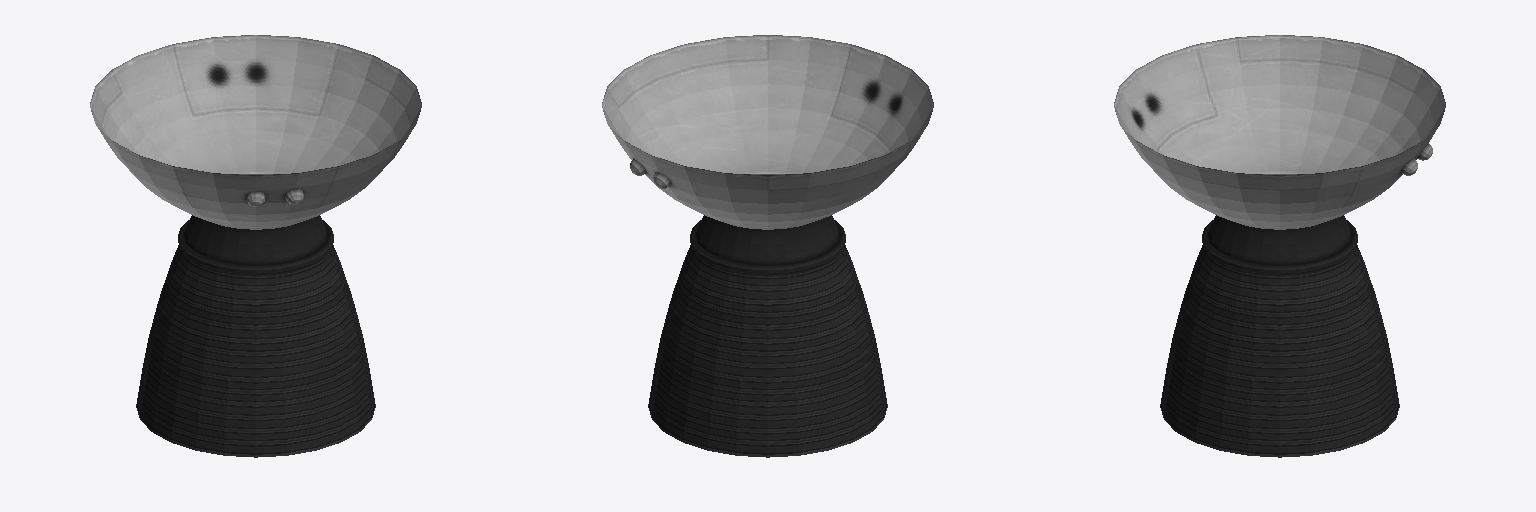
The picture shows the model from 3 angles: view 1: azimuth 30°, elevation 25°; view 2: azimuth 150°, elevation 25°; view 3: azimuth 270°, elevation 25°; orthographic projection.
Parts seen in each view (by area): view 1: mesh1; view 2: mesh1; view 3: mesh1.
Boxes of the visible parts, x1,y1,x2,y2 form: mesh1: [90, 35, 421, 457]; mesh1: [602, 35, 933, 457]; mesh1: [1114, 35, 1445, 457].
Size of the model in its own units: 1.25 by 1.25 by 1.25.
Materials: 1 (1 with a texture image).